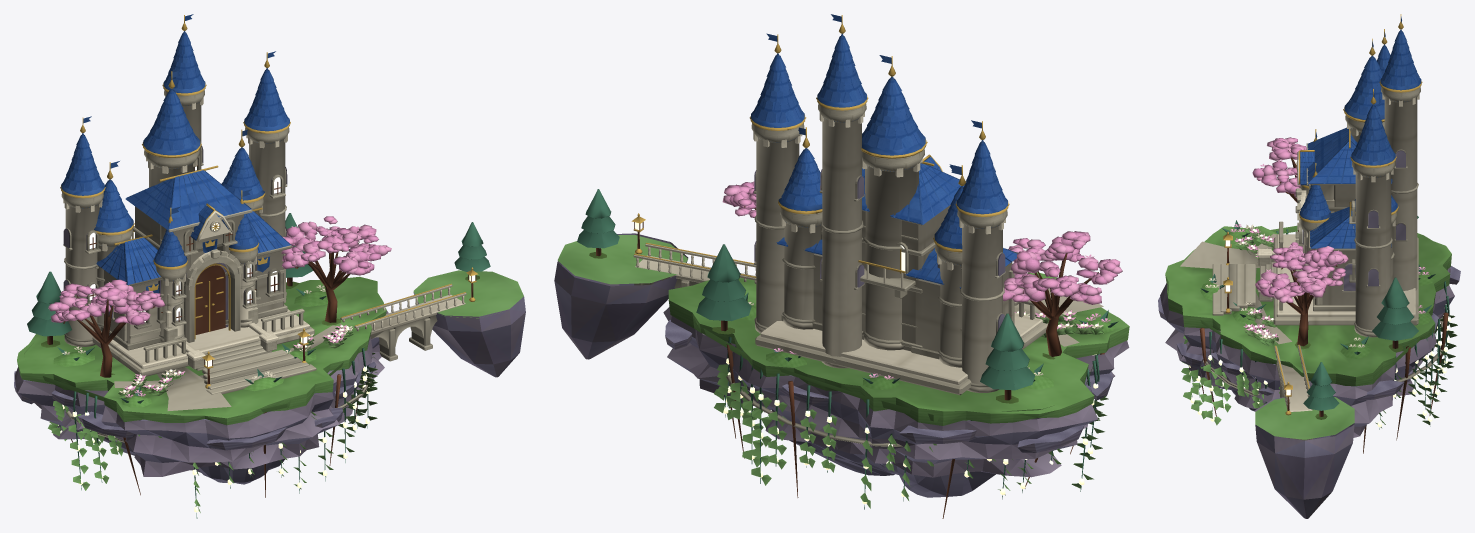
Rendered from royal-island-citadel-final-v1.glb.
3 renders of one model, left to right at view 1: azimuth 30°, elevation 25°; view 2: azimuth 150°, elevation 25°; view 3: azimuth 270°, elevation 25°, orthographic. The views are drawn at different scales.
Visible parts, largest first — view 1: royal-island-citadel-final-v1; view 2: royal-island-citadel-final-v1; view 3: royal-island-citadel-final-v1.
Boxes of the visible parts, x1,y1,x2,y2 form: royal-island-citadel-final-v1: (14,14,525,518); royal-island-citadel-final-v1: (554,14,1129,518); royal-island-citadel-final-v1: (1158,14,1460,518).
Bounding box in the file's own units: 19.54 × 16.42 × 11.04.
10 materials, 10 textured.
